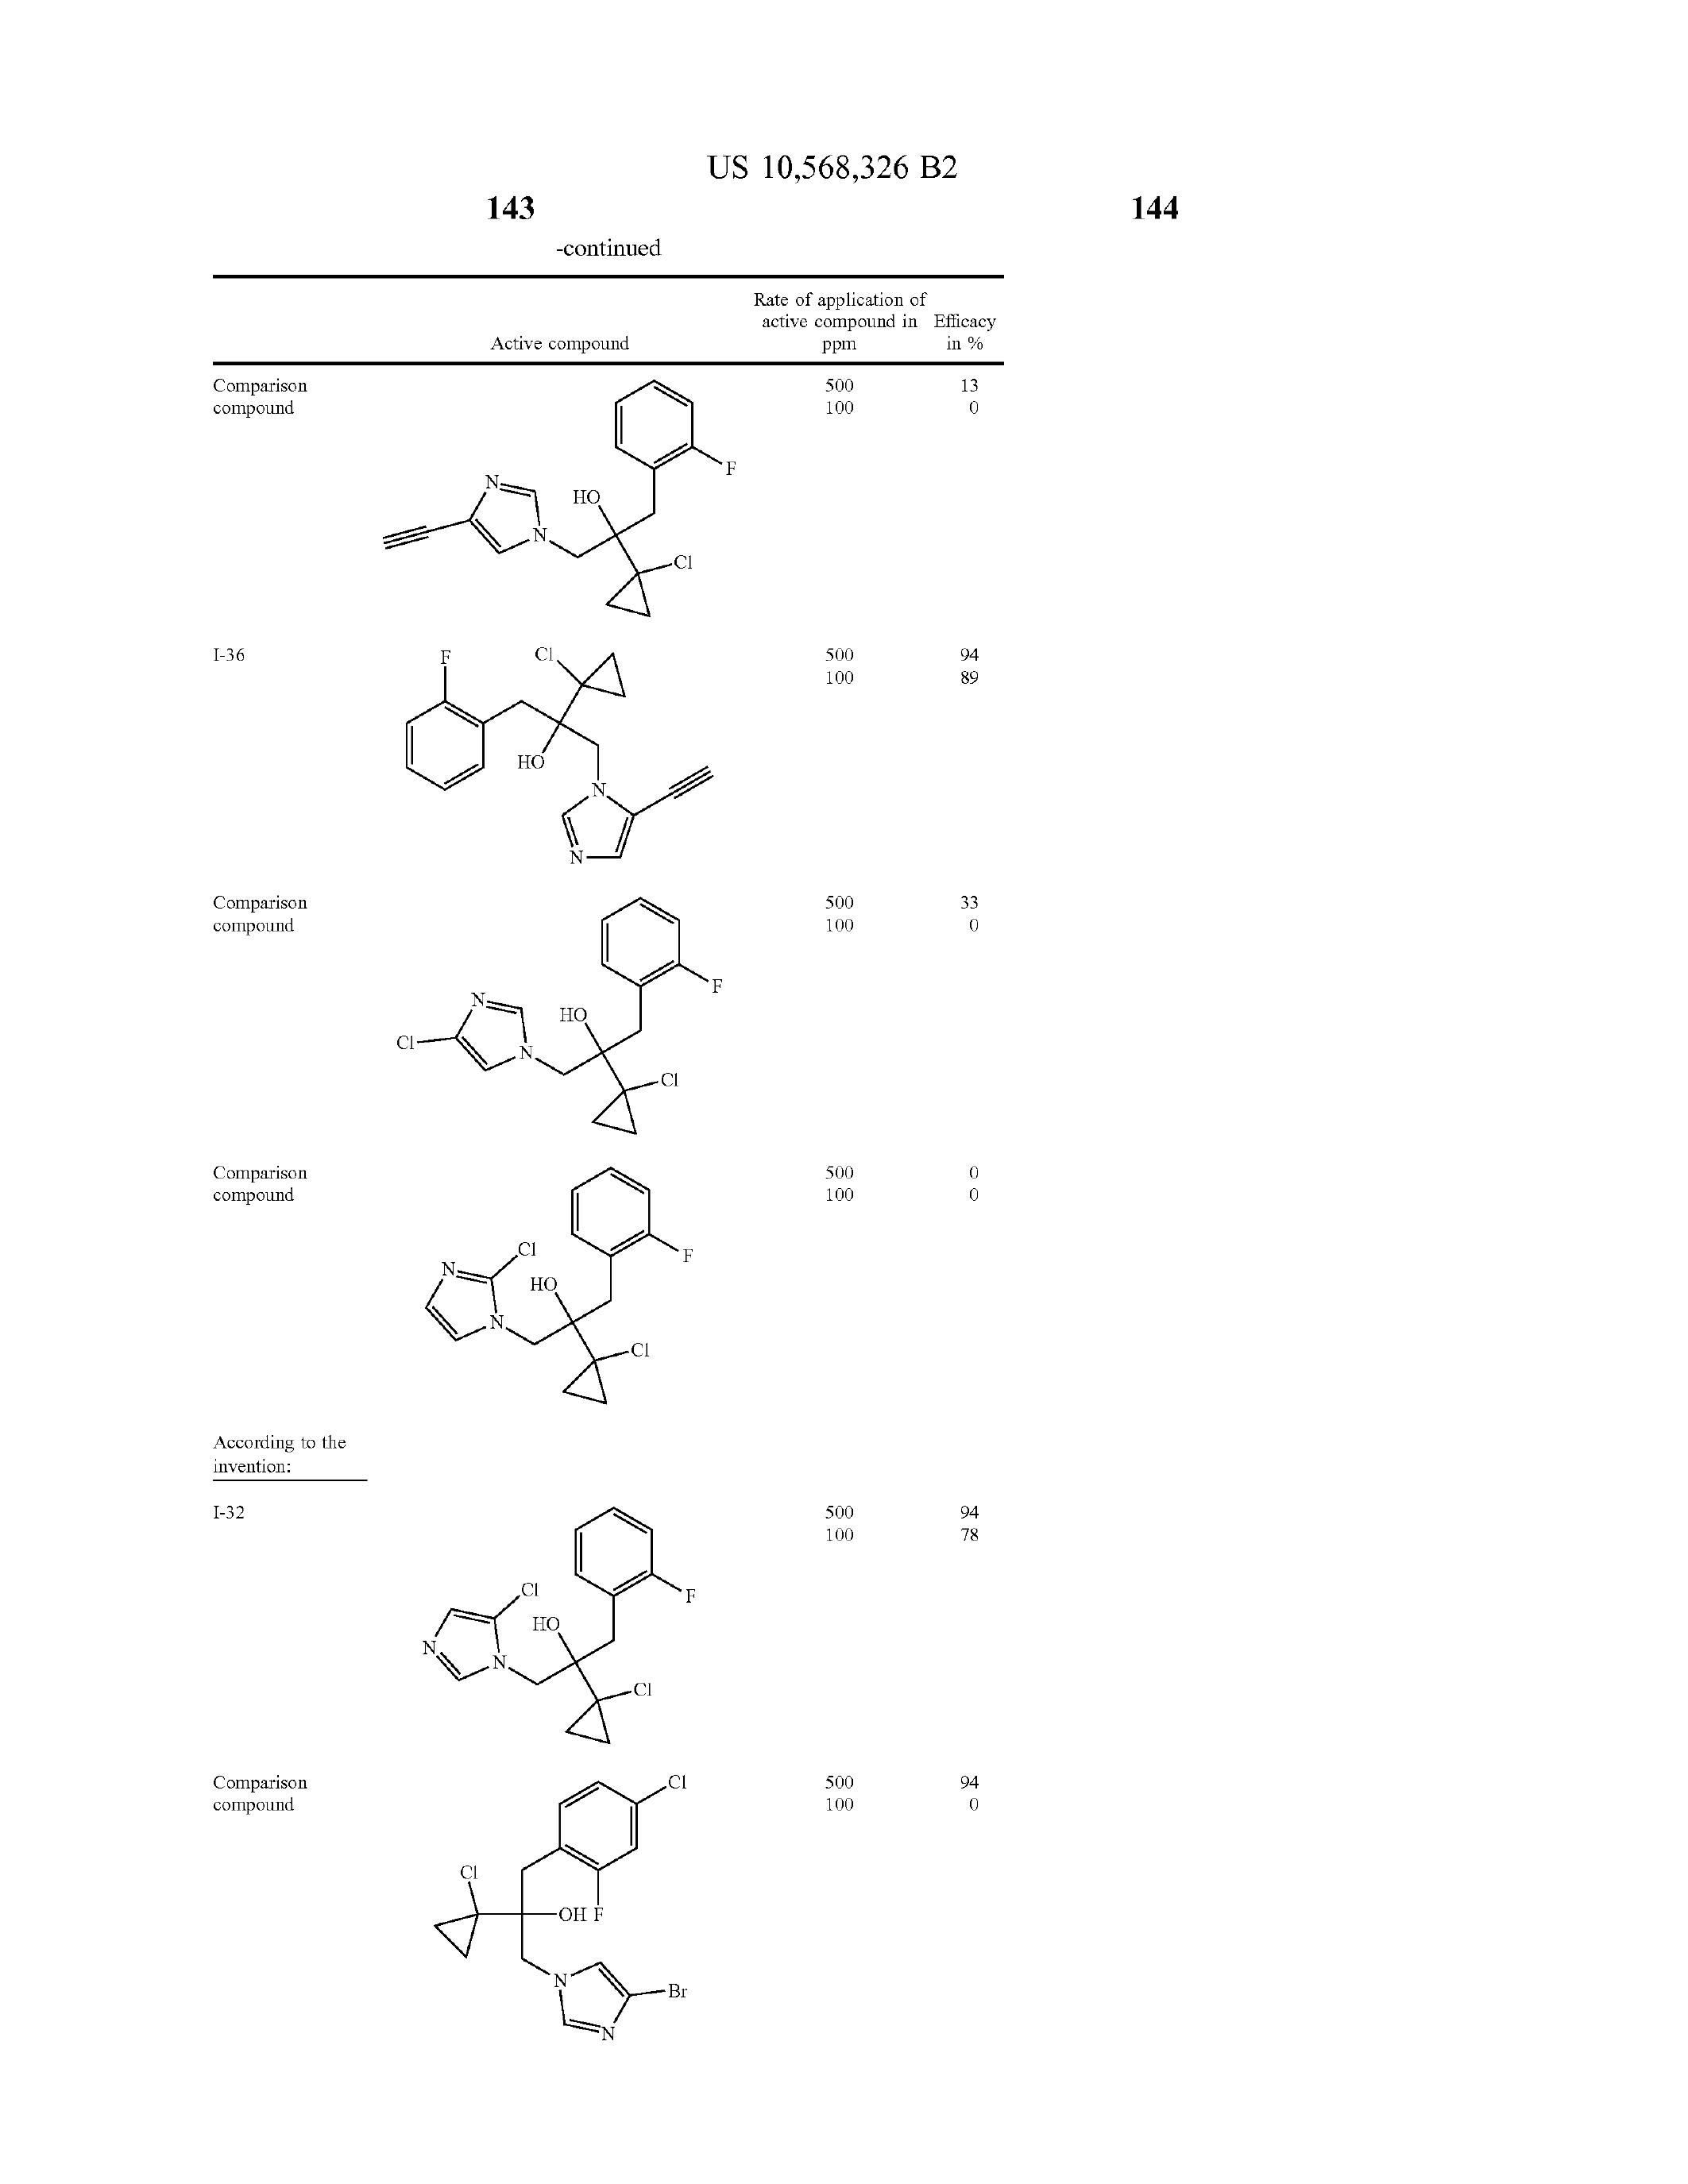relevant-structures: (390, 1751, 789, 2145), (353, 339, 782, 631), (365, 895, 794, 1165), (349, 626, 775, 890), (388, 1480, 801, 1748), (388, 1179, 777, 1455)
